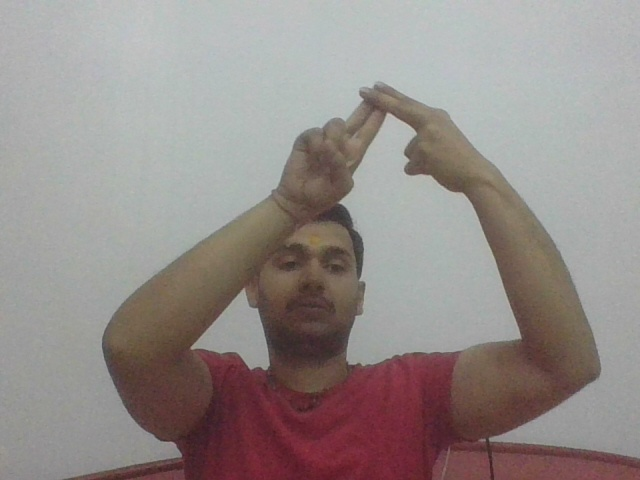F: (277, 82, 489, 197)
